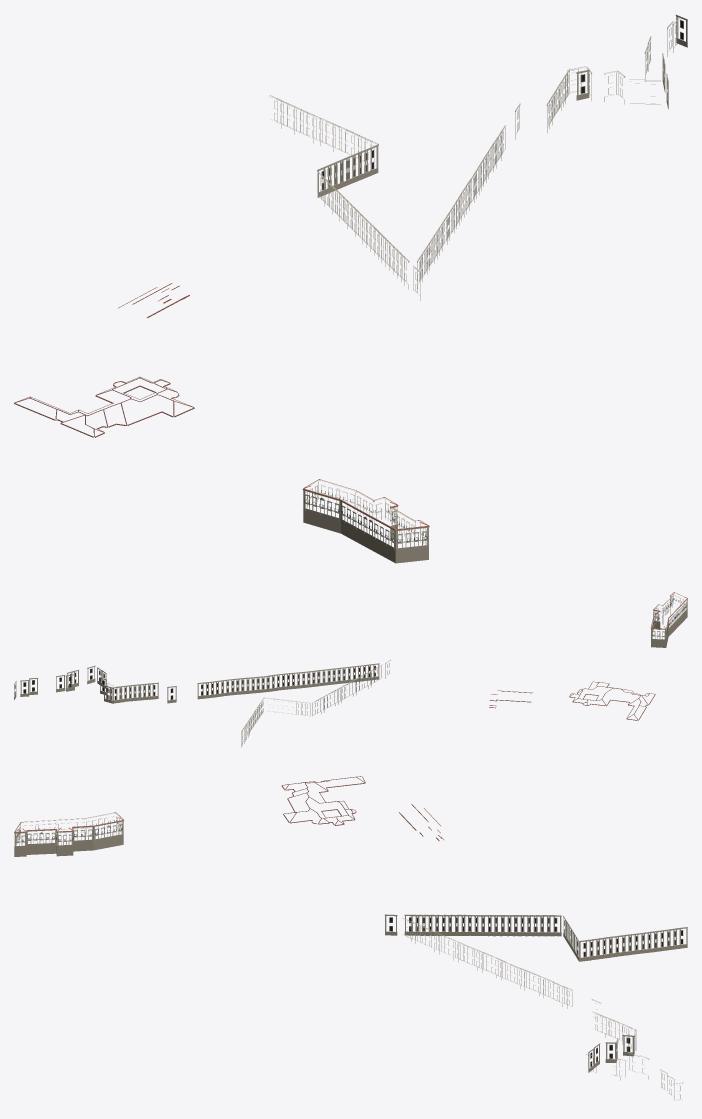
3 views of the same model, one above another, from view 1: azimuth 30°, elevation 25°; view 2: azimuth 150°, elevation 25°; view 3: azimuth 270°, elevation 25° (orthographic). The views are drawn at different scales.
Visible parts, largest first — view 1: detail; view 2: detail; view 3: detail.
Boxes of the visible parts, x1=… form: detail: x1=14, y1=14, x2=687, y2=563; detail: x1=14, y1=592, x2=687, y2=747; detail: x1=14, y1=776, x2=687, y2=1100.
Size of the model in its own units: 327 by 21.68 by 296.
